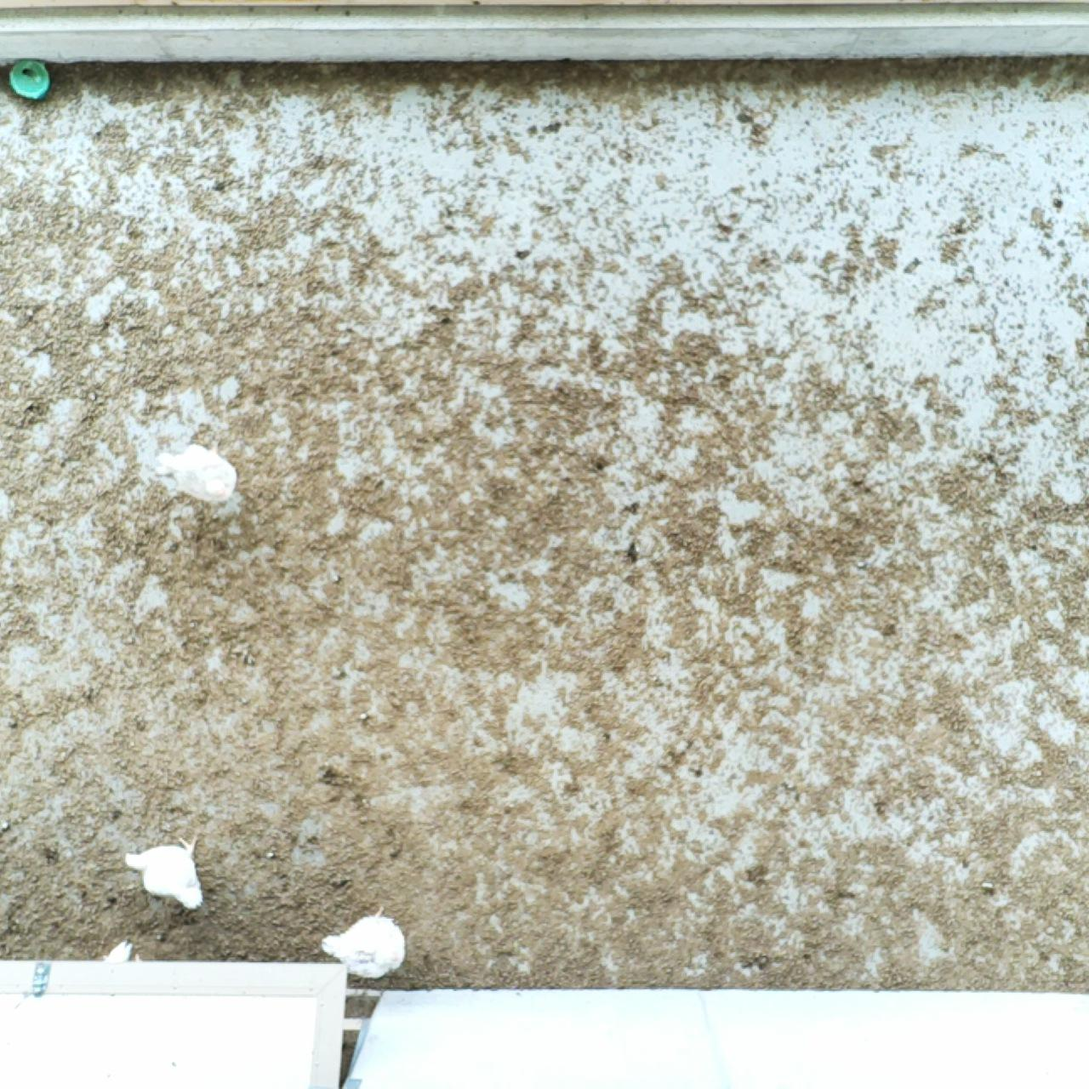chicken: (317, 898, 415, 982), (121, 830, 215, 917), (153, 436, 242, 505)
